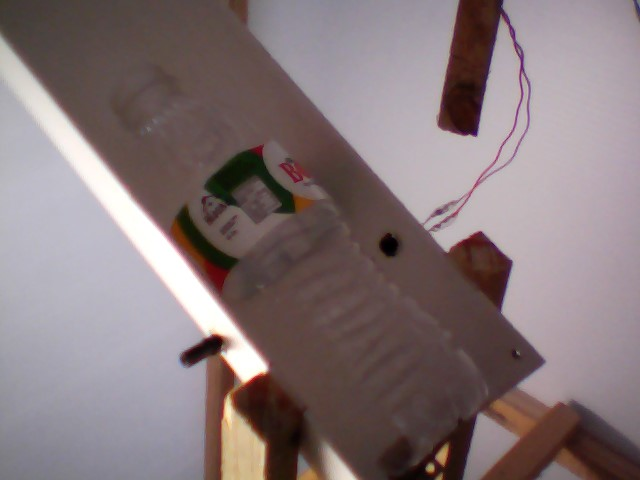plastico: (109, 59, 492, 480)
